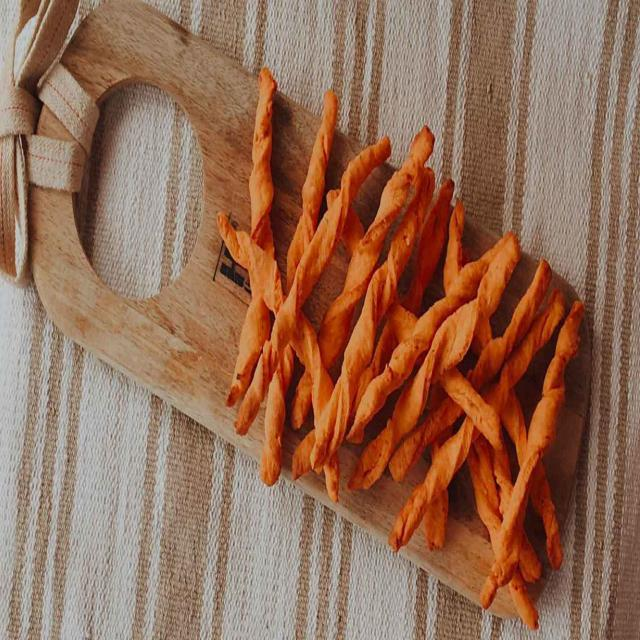Grissini: (215, 57, 587, 623)
